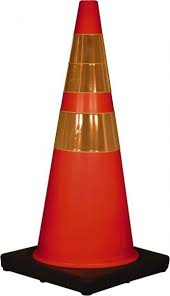cones: (3, 1, 170, 291)
